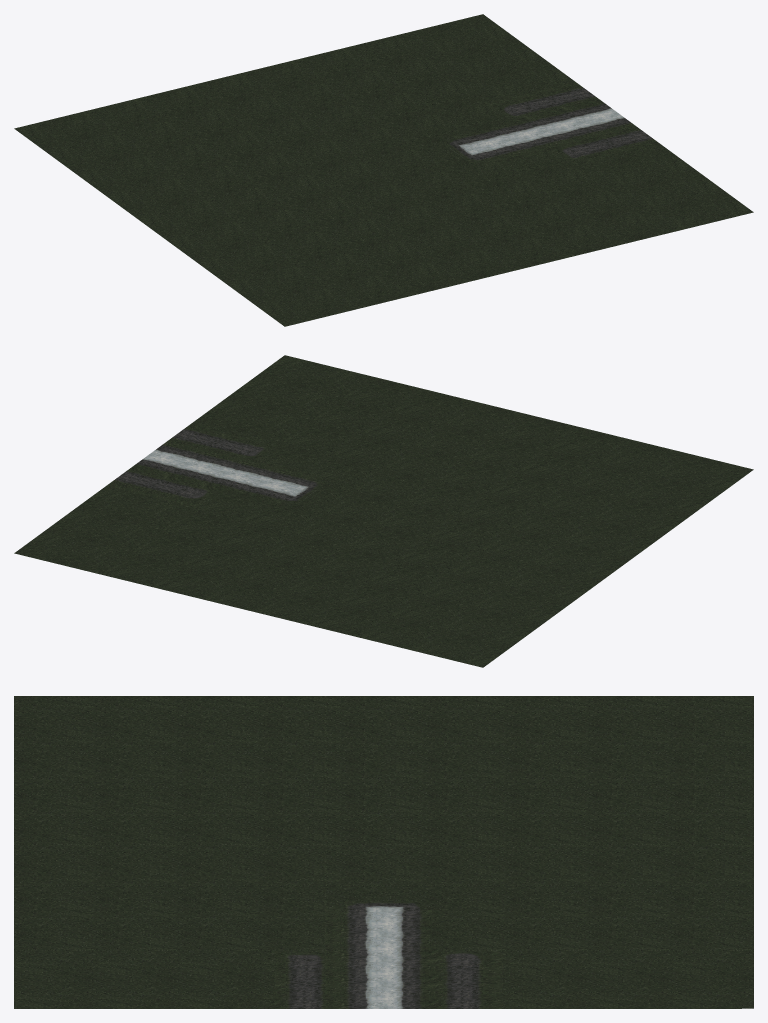
The model's file is SM_EC_Ground_Tile_05.fbx.
3 views of the same model, one above another, from view 1: azimuth 30°, elevation 25°; view 2: azimuth 150°, elevation 25°; view 3: azimuth 270°, elevation 25° (orthographic). The views are drawn at different scales.
Parts seen in each view (by area): view 1: SM_EC_Ground_Tile_05; view 2: SM_EC_Ground_Tile_05; view 3: SM_EC_Ground_Tile_05.
Part boxes in pixels (bbox=[...]): SM_EC_Ground_Tile_05: bbox=[14, 14, 753, 326]; SM_EC_Ground_Tile_05: bbox=[14, 355, 753, 667]; SM_EC_Ground_Tile_05: bbox=[14, 696, 753, 1008].
Bounding box in the file's own units: 37.5 × 37.5 × 0.00692.
